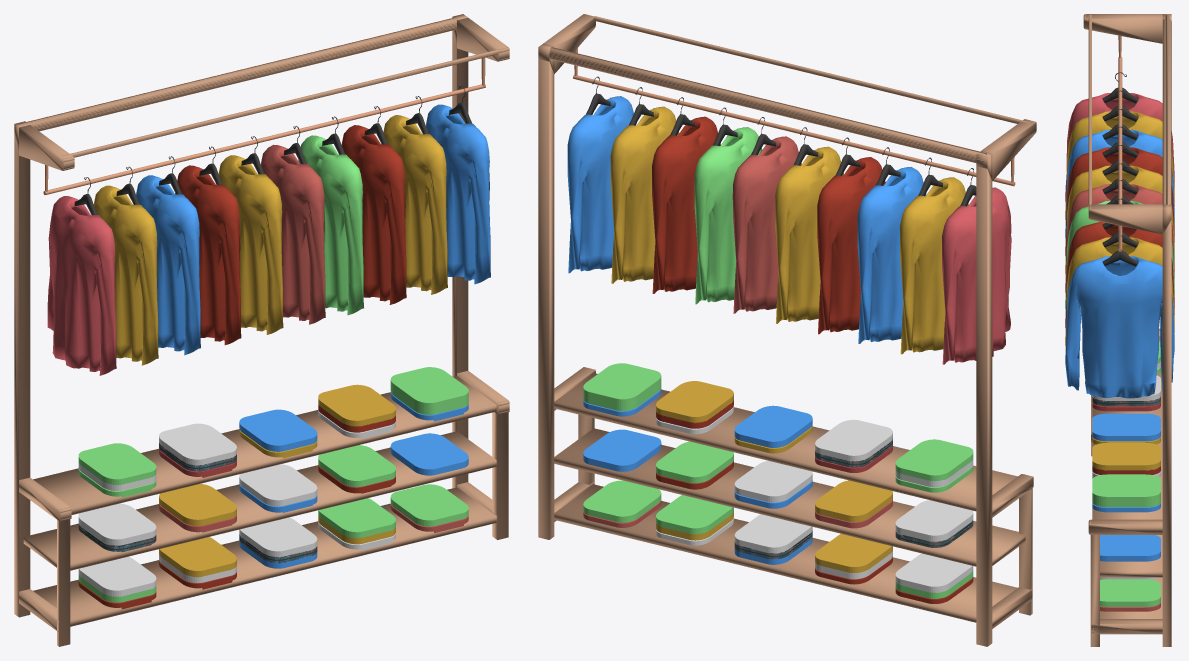
The model's file is Casual Tshirt_rack.fbx.
3 views of the same model, side by side, from view 1: azimuth 30°, elevation 25°; view 2: azimuth 150°, elevation 25°; view 3: azimuth 270°, elevation 25° (orthographic). The views are drawn at different scales.
Visible parts, largest first — view 1: Pattern2D_5081.003, Tshirt.010, Tshirt.004, Tshirt.002, Tshirt.005, Tshirt.008, Tshirt.009, Tshirt.006, Tshirt.001, Tshirt.007, Tshirt.003, Cylinder.001 (+15 smaller); view 2: Pattern2D_5081.003, Tshirt.010, Tshirt.004, Tshirt.002, Tshirt.005, Tshirt.008, Tshirt.006, Tshirt.009, Tshirt.001, Tshirt.007, Tshirt.003, Shirt_folded.023 (+15 smaller); view 3: Pattern2D_5081.003, Tshirt.004, Shirt_folded.010, Shirt_folded.033, Shirt_folded.034, Tshirt.001, Shirt_folded.024, Tshirt.006, Tshirt.009, Tshirt.007, Tshirt.010, Shirt_folded.023 (+21 smaller).
Part boxes in pixels (bbox=[...]): Pattern2D_5081.003: bbox=[14, 14, 509, 646]; Tshirt.010: bbox=[47, 196, 116, 375]; Tshirt.004: bbox=[426, 104, 490, 284]; Tshirt.002: bbox=[341, 125, 406, 304]; Tshirt.005: bbox=[261, 144, 325, 324]; Tshirt.008: bbox=[136, 175, 200, 355]; Tshirt.009: bbox=[93, 185, 158, 365]; Tshirt.006: bbox=[218, 155, 283, 334]; Tshirt.001: bbox=[383, 115, 447, 294]; Tshirt.007: bbox=[175, 165, 241, 345]; Tshirt.003: bbox=[298, 135, 363, 315]; Cylinder.001: bbox=[43, 57, 485, 194]; Pattern2D_5081.003: bbox=[538, 14, 1036, 646]; Tshirt.010: bbox=[942, 187, 1011, 364]; Tshirt.004: bbox=[567, 96, 636, 273]; Tshirt.002: bbox=[652, 116, 720, 293]; Tshirt.005: bbox=[732, 136, 801, 313]; Tshirt.008: bbox=[857, 167, 926, 343]; Tshirt.006: bbox=[775, 146, 843, 323]; Tshirt.009: bbox=[900, 177, 968, 354]; Tshirt.001: bbox=[610, 106, 679, 283]; Tshirt.007: bbox=[817, 157, 885, 334]; Tshirt.003: bbox=[694, 127, 762, 304]; Shirt_folded.023: bbox=[583, 429, 661, 471]; Pattern2D_5081.003: bbox=[1083, 14, 1171, 646]; Tshirt.004: bbox=[1065, 256, 1174, 398]; Shirt_folded.010: bbox=[1092, 413, 1160, 441]; Shirt_folded.033: bbox=[1092, 442, 1160, 470]; Shirt_folded.034: bbox=[1092, 474, 1160, 502]; Tshirt.001: bbox=[1065, 237, 1174, 347]; Shirt_folded.024: bbox=[1100, 579, 1160, 606]; Tshirt.006: bbox=[1065, 165, 1174, 275]; Tshirt.009: bbox=[1065, 111, 1174, 221]; Tshirt.007: bbox=[1065, 147, 1174, 257]; Tshirt.010: bbox=[1065, 93, 1174, 202]; Shirt_folded.023: bbox=[1100, 535, 1160, 561].
Size of the model in its own units: 429 by 447 by 101.
